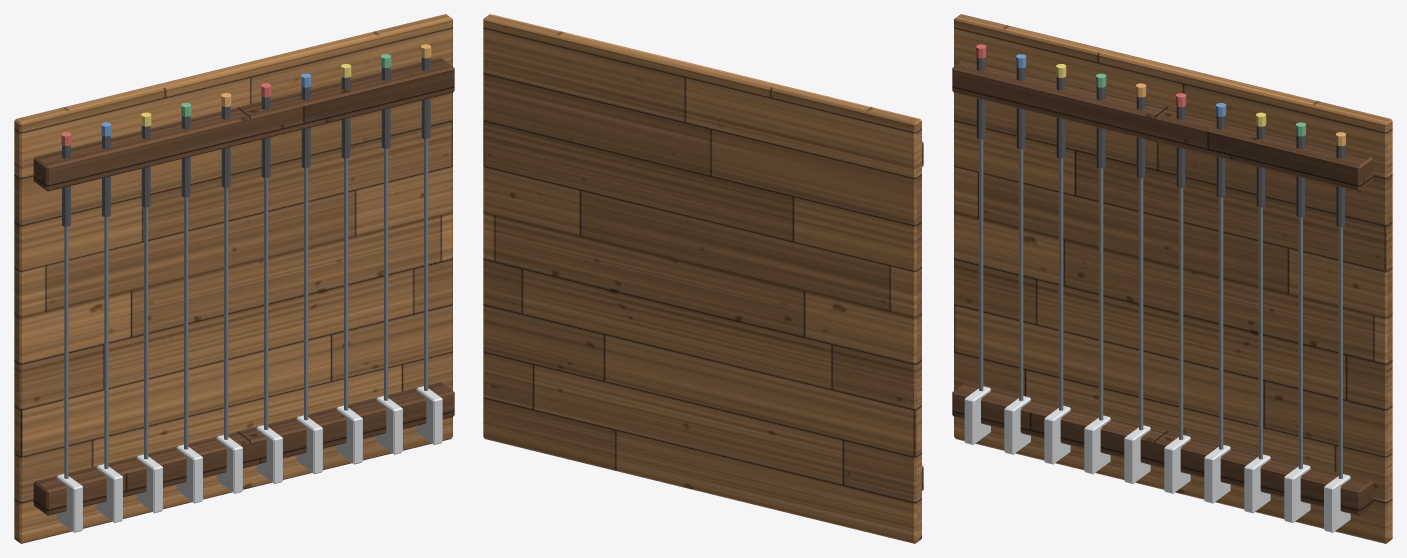
The model's file is putter_rack.glb.
The picture shows the model from 3 angles, left to right: view 1: azimuth 30°, elevation 25°; view 2: azimuth 150°, elevation 25°; view 3: azimuth 330°, elevation 25°; orthographic projection.
Visible parts, largest first — view 1: putter_rack_wood, putter_rack_dkwood, putter_rack_putter, putter_rack_chrome, putter_rack_grip; view 2: putter_rack_wood; view 3: putter_rack_wood, putter_rack_dkwood, putter_rack_putter, putter_rack_chrome, putter_rack_grip.
Boxes of the visible parts, x1,y1,x2,y2 form: putter_rack_wood: [14, 14, 452, 543]; putter_rack_dkwood: [33, 58, 454, 515]; putter_rack_putter: [64, 139, 428, 478]; putter_rack_chrome: [56, 386, 442, 532]; putter_rack_grip: [62, 57, 430, 226]; putter_rack_wood: [483, 14, 921, 543]; putter_rack_wood: [954, 14, 1392, 543]; putter_rack_dkwood: [952, 58, 1373, 515]; putter_rack_putter: [979, 139, 1342, 478]; putter_rack_chrome: [964, 386, 1350, 532]; putter_rack_grip: [976, 57, 1345, 226].
Size of the model in its own units: 1.4 by 1.3 by 0.16.
10 materials, 2 textured.
